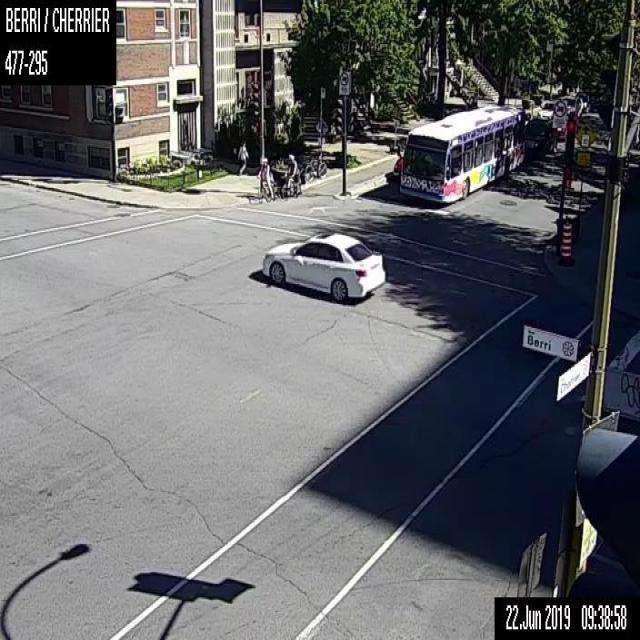bus: (397, 106, 525, 202)
construction: (561, 222, 571, 258)
cyclist: (279, 154, 300, 196), (258, 157, 276, 200)
pedestrian: (237, 140, 248, 174)
vehicle: (262, 231, 386, 301), (525, 116, 557, 157), (537, 100, 554, 118), (562, 96, 574, 116)
